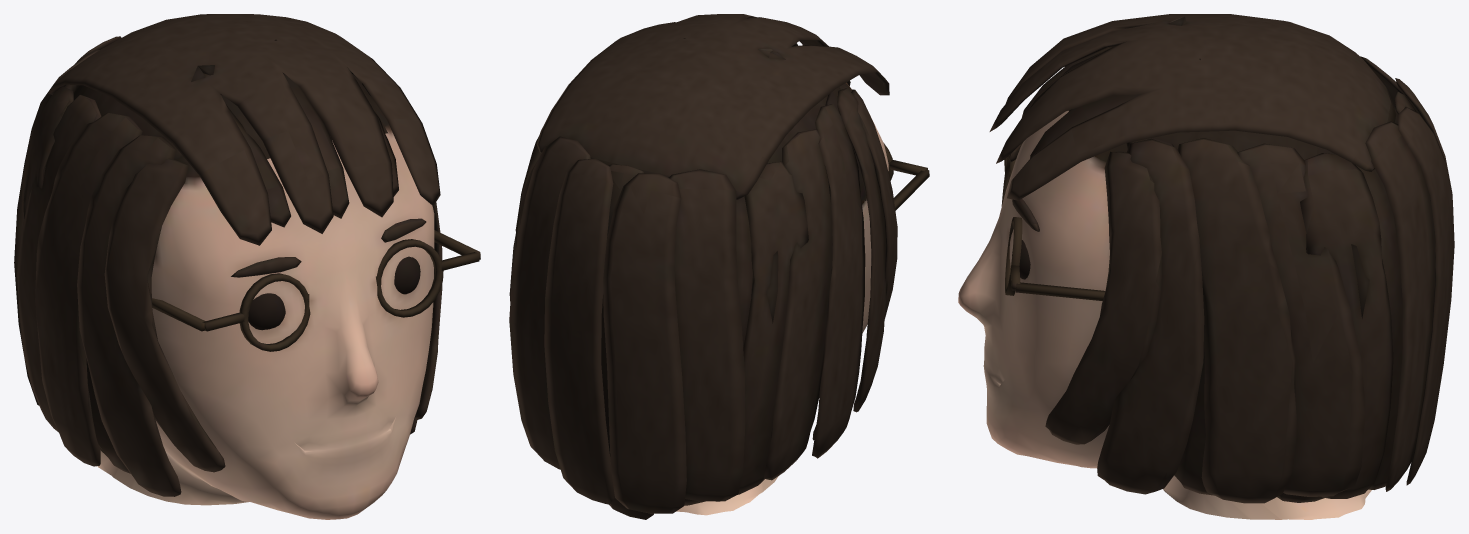
Rendered from PH_NPC__StudentWoman_Head.fbx.
The picture shows the model from 3 angles, left to right: view 1: azimuth 30°, elevation 25°; view 2: azimuth 150°, elevation 25°; view 3: azimuth 270°, elevation 25°; orthographic projection. The views are drawn at different scales.
Visible parts, largest first — view 1: PH_NPC__StudentWoman_Head; view 2: PH_NPC__StudentWoman_Head; view 3: PH_NPC__StudentWoman_Head.
Part boxes in pixels (box(x1,y1,x2,y2)): PH_NPC__StudentWoman_Head: box(14, 14, 480, 519); PH_NPC__StudentWoman_Head: box(509, 14, 929, 519); PH_NPC__StudentWoman_Head: box(958, 14, 1454, 519).
Size of the model in its own units: 0.2049 by 0.2588 by 0.2621.
